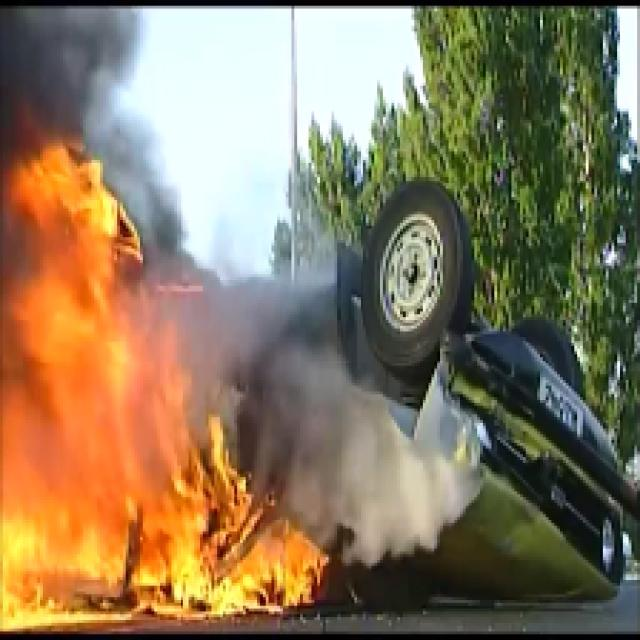fire: (9, 132, 314, 617)
smoke: (16, 12, 138, 107)
